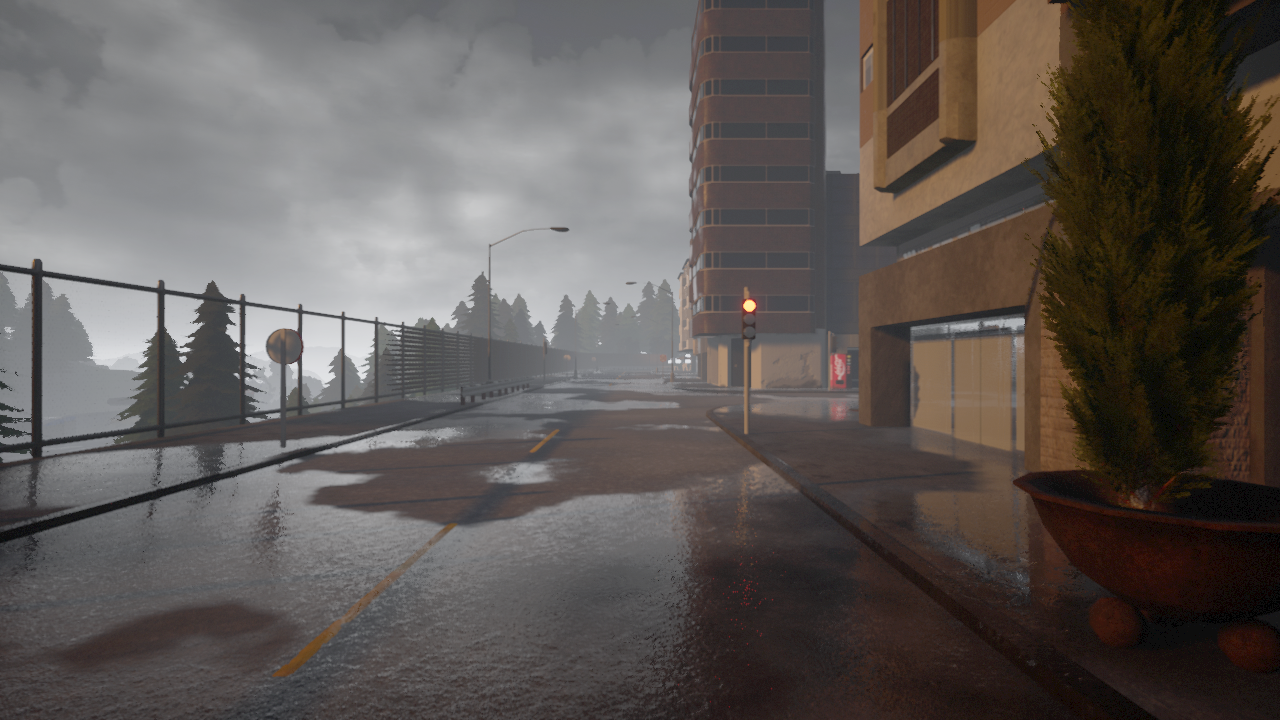red: (740, 298, 758, 340)
